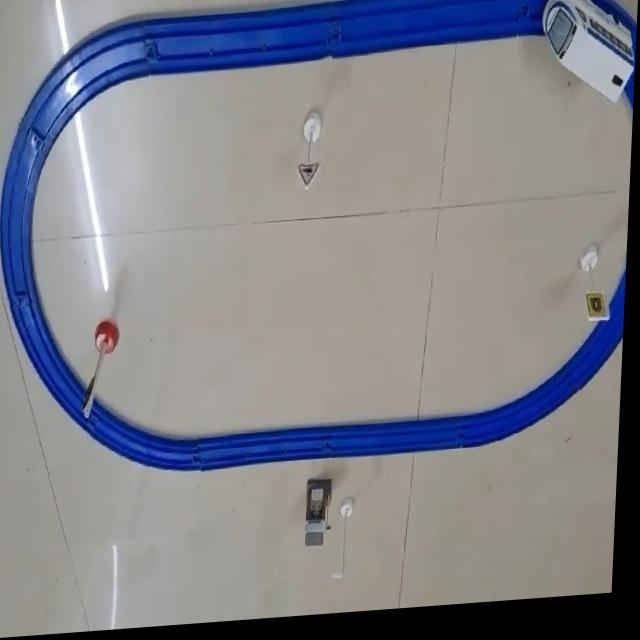bus: (540, 0, 639, 120)
